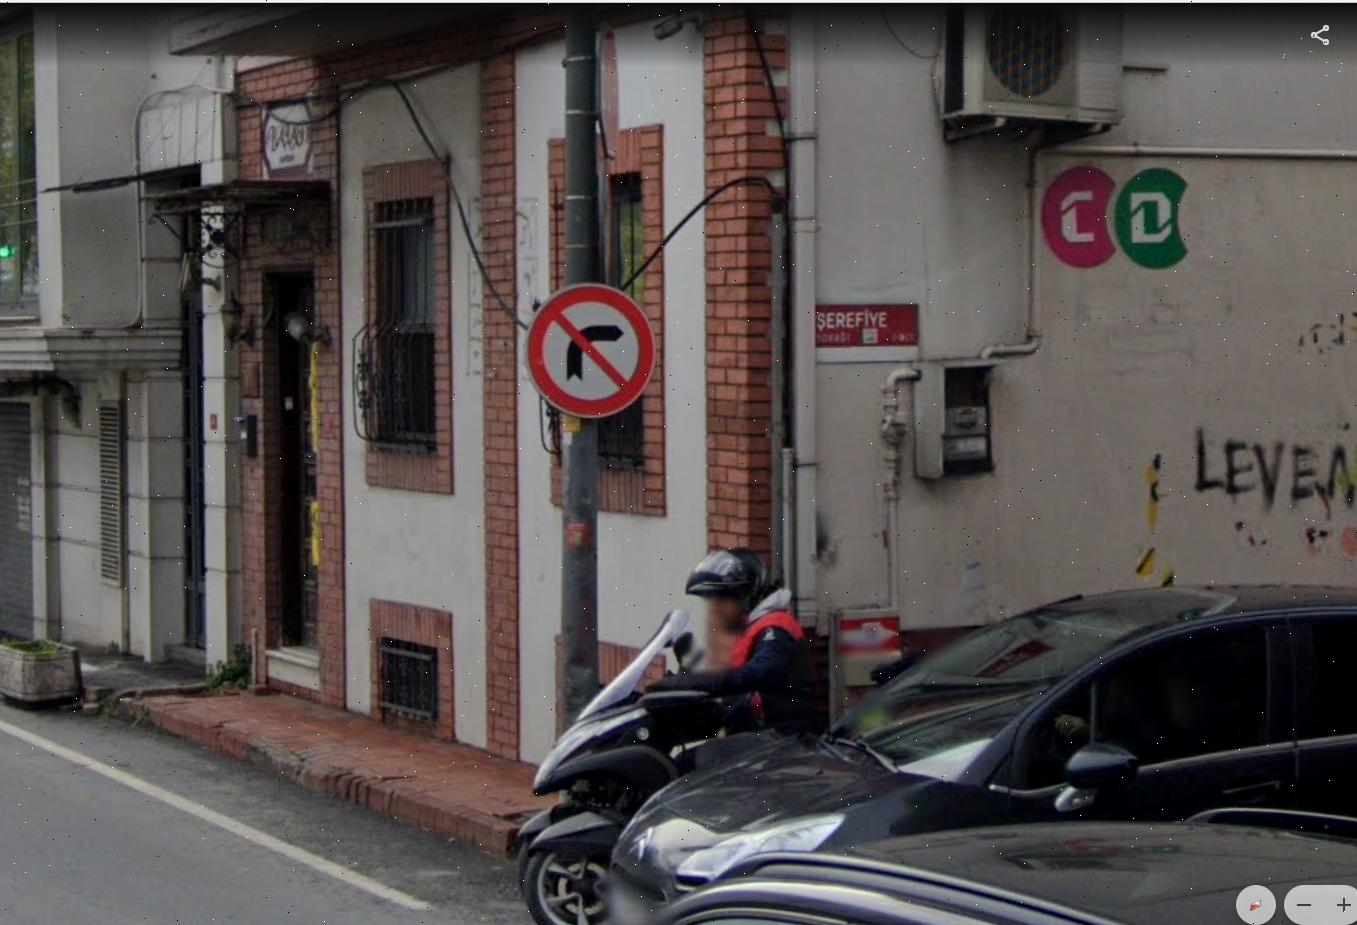rightturnsareforbidden: (533, 290, 648, 407)
